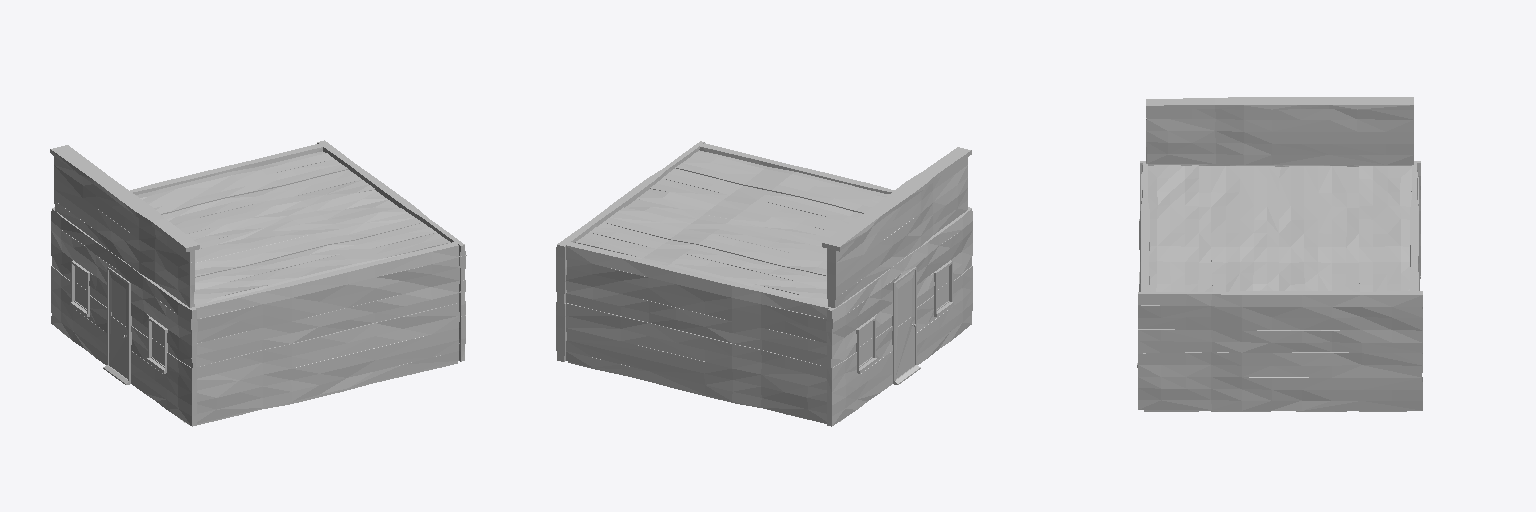
File: Barber_LOD1.obj
3 renders of one model, left to right at view 1: azimuth 30°, elevation 25°; view 2: azimuth 150°, elevation 25°; view 3: azimuth 270°, elevation 25°, orthographic.
Visible parts, largest first — view 1: WildWest_Barber_Building, WildWest_Barber_Ceiling, WildWest_Barber_Door, WildWest_Barber_Window, WildWest_Barber_DoorWindow; view 2: WildWest_Barber_Building, WildWest_Barber_Ceiling, WildWest_Barber_Door, WildWest_Barber_Window, WildWest_Barber_DoorWindow; view 3: WildWest_Barber_Building, WildWest_Barber_Ceiling.
Boxes of the visible parts, <box> form: WildWest_Barber_Building: <box>50,140,466,426</box>; WildWest_Barber_Ceiling: <box>64,151,457,424</box>; WildWest_Barber_Door: <box>109,271,127,378</box>; WildWest_Barber_Window: <box>75,267,164,365</box>; WildWest_Barber_DoorWindow: <box>112,279,125,325</box>; WildWest_Barber_Building: <box>556,141,972,426</box>; WildWest_Barber_Ceiling: <box>568,150,959,423</box>; WildWest_Barber_Door: <box>896,271,915,378</box>; WildWest_Barber_Window: <box>859,267,948,365</box>; WildWest_Barber_DoorWindow: <box>898,279,911,325</box>; WildWest_Barber_Building: <box>1137,97,1422,410</box>; WildWest_Barber_Ceiling: <box>1144,165,1411,411</box>.
Bounding box in the file's own units: 7.28 × 4.51 × 6.36.